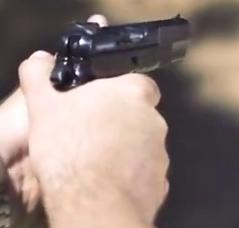gun: (1, 1, 239, 228)
